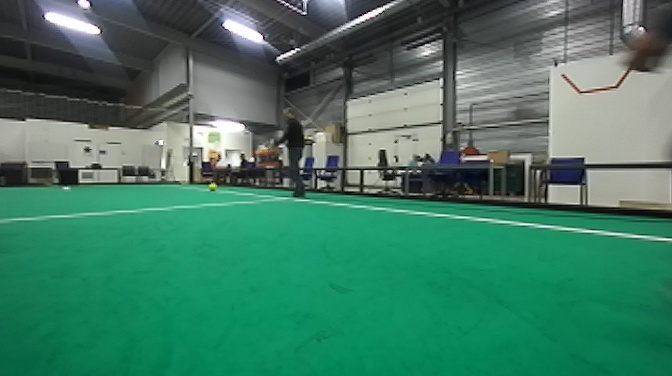ball: (208, 180, 219, 192)
human: (275, 108, 309, 200)
